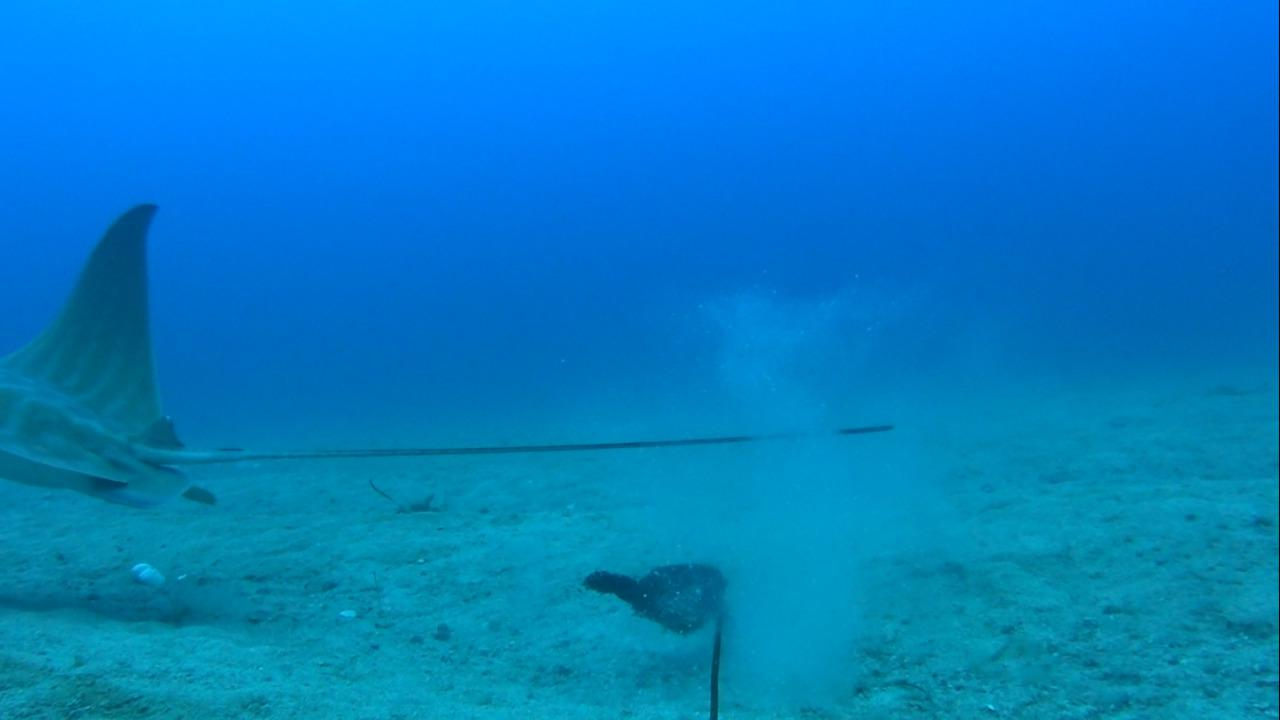myliobatis: (4, 195, 901, 516)
